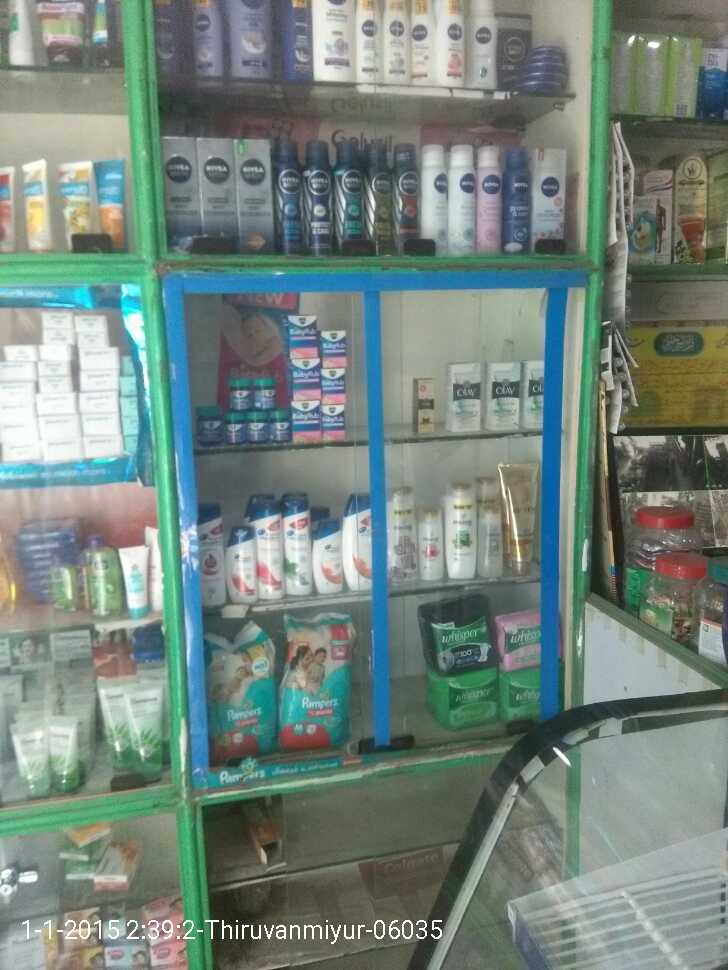vicks: (196, 315, 348, 440)
